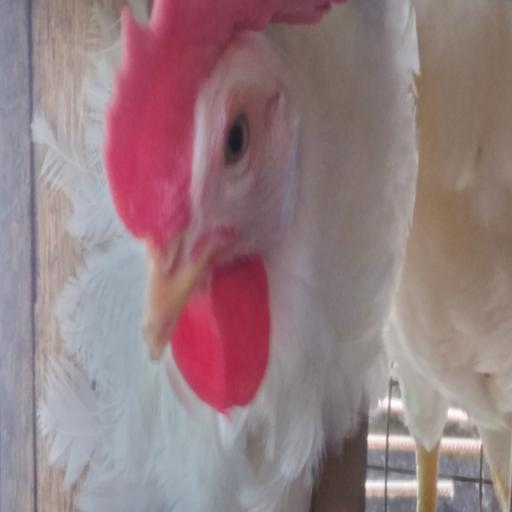healthy: (125, 50, 295, 346)
